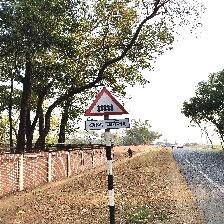Rail-crossing: (83, 88, 131, 132)
